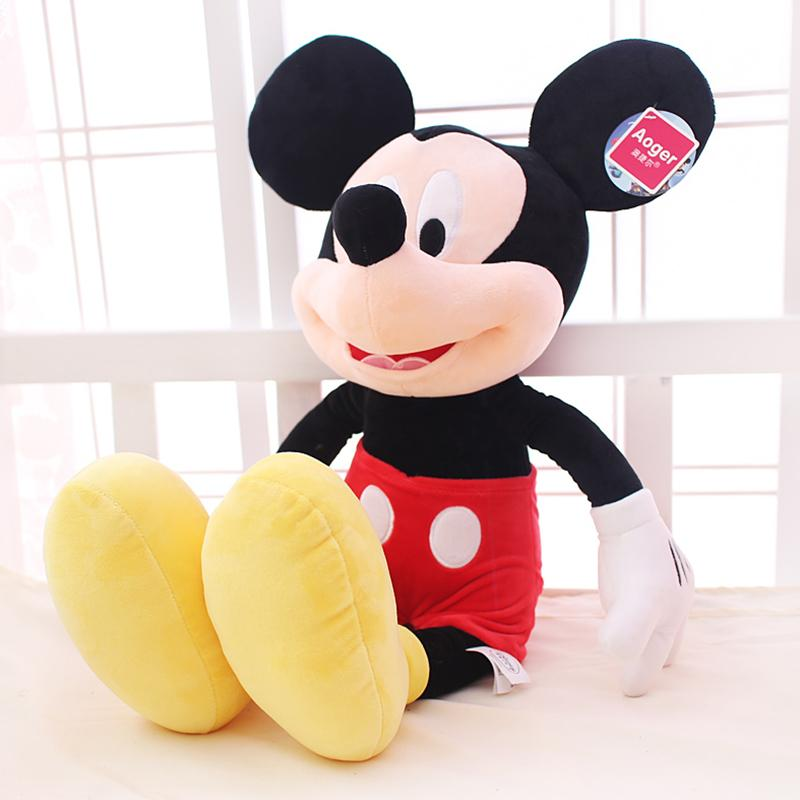Mickey: (244, 29, 717, 399)
